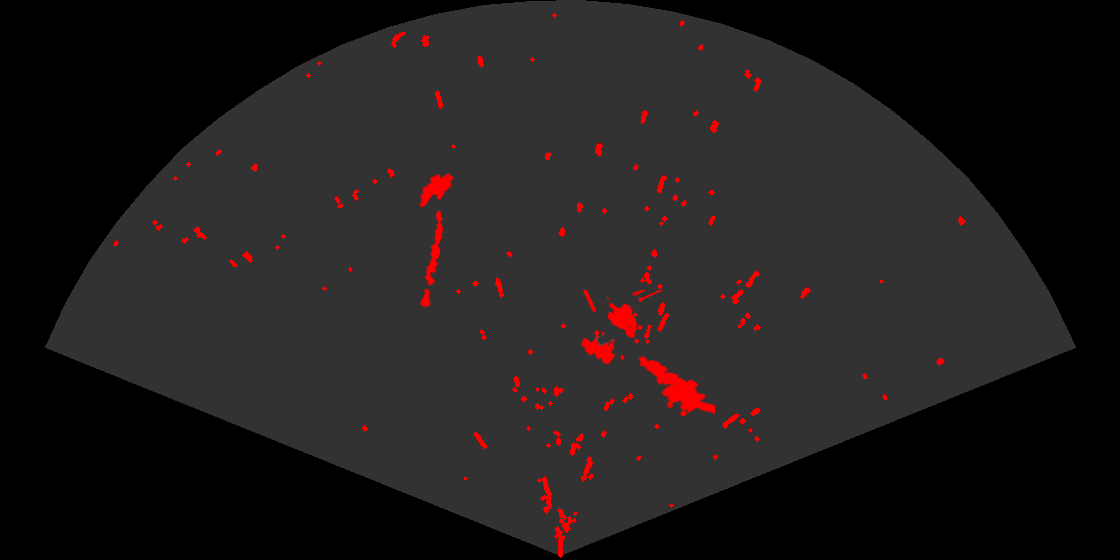AUV: (418, 171, 455, 209)
cage: (580, 290, 664, 366)
chain: (419, 209, 445, 310)
frogman: (637, 354, 715, 416)
